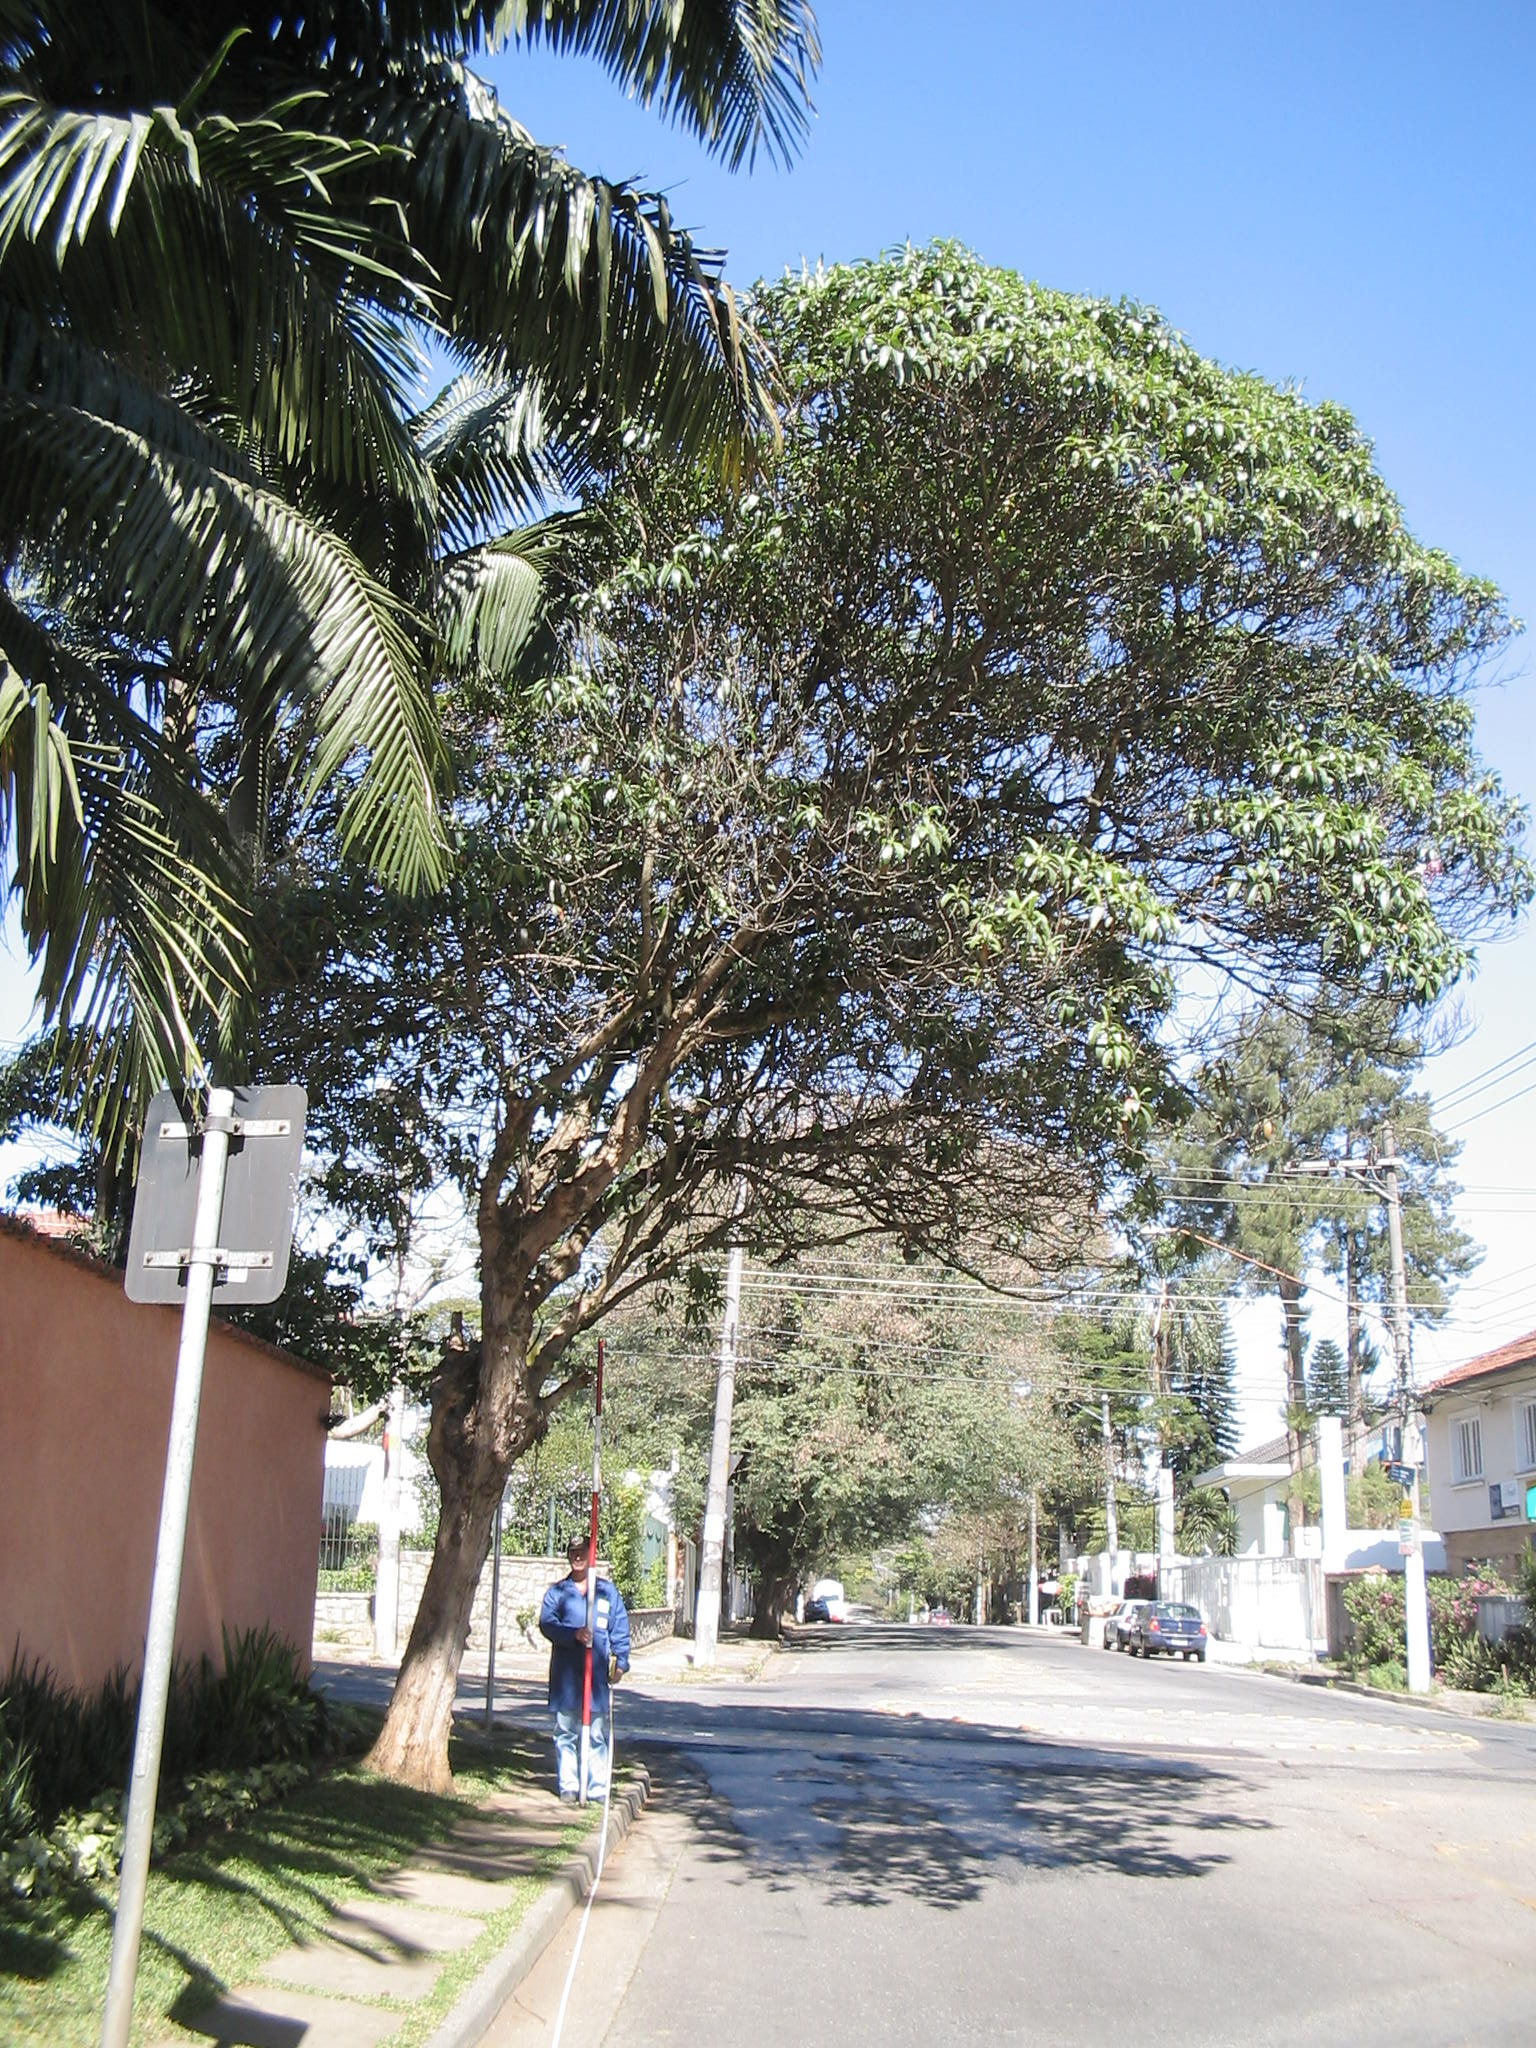crown: (336, 245, 1521, 1324)
stem: (357, 1408, 541, 1792)
stick: (544, 1337, 641, 1813)
tree: (324, 242, 1536, 1788)
